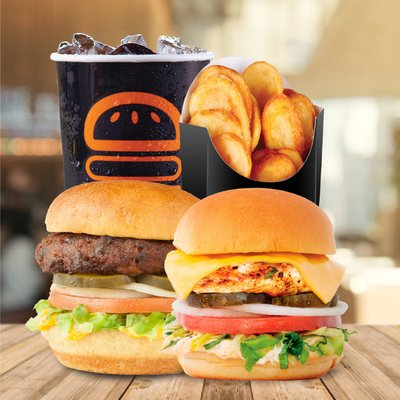soup: (24, 175, 368, 381), (163, 187, 349, 381), (26, 179, 201, 377), (165, 187, 346, 310), (33, 180, 200, 280)
sushi: (150, 61, 323, 203)
